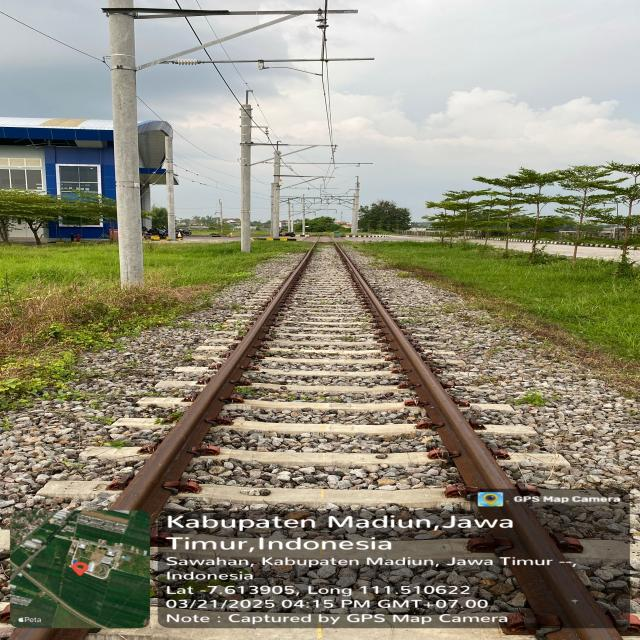rail-detection: (336, 245, 619, 640), (111, 252, 312, 516)
